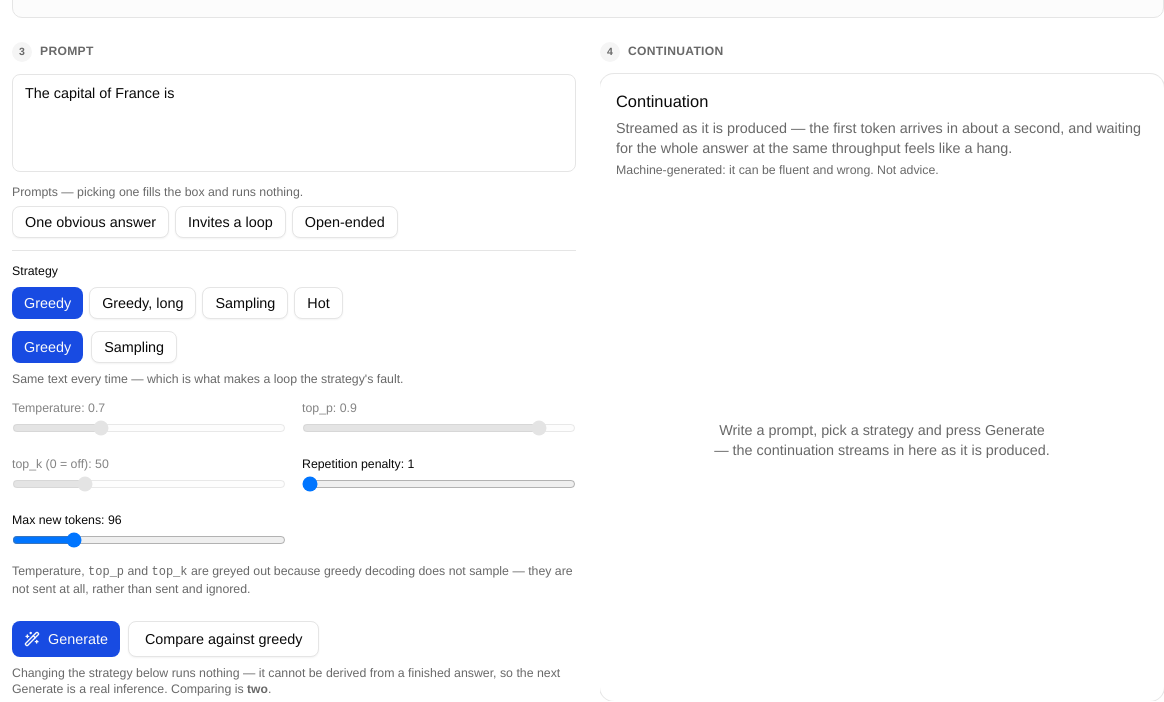
TextGenerationPage › greys out the sampling knobs under greedy decoding
This screenshot has width=1164, height=702.
(page scrolled)
Expected: the slider labelled "Temperature: 0.7" is disabled, [12,420,286,436]
Expected: the slider labelled "top_p: 0.9" is disabled, [302,420,576,436]
What coordinates should you click on to do the following:
click the button with test id "mode-sample"
I would click on:
 (134, 347)
Its box is [91,331,177,363].
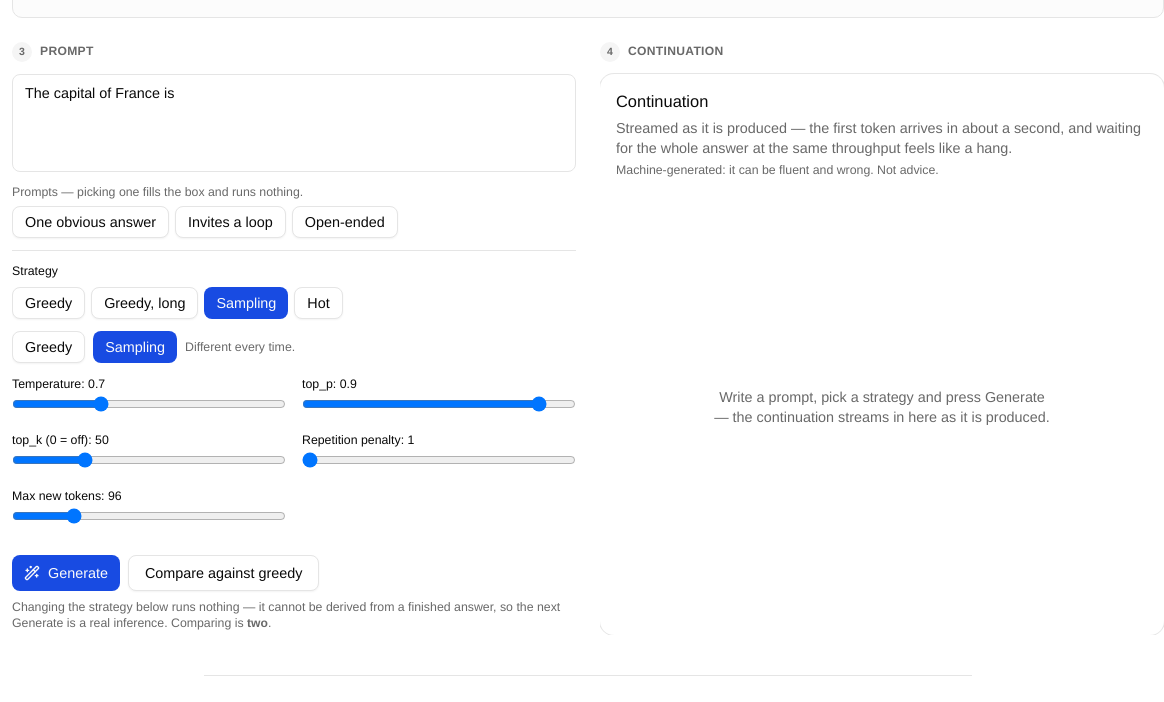
Now the slider labelled "Temperature: 0.7" is enabled, box [12,396,286,412]
